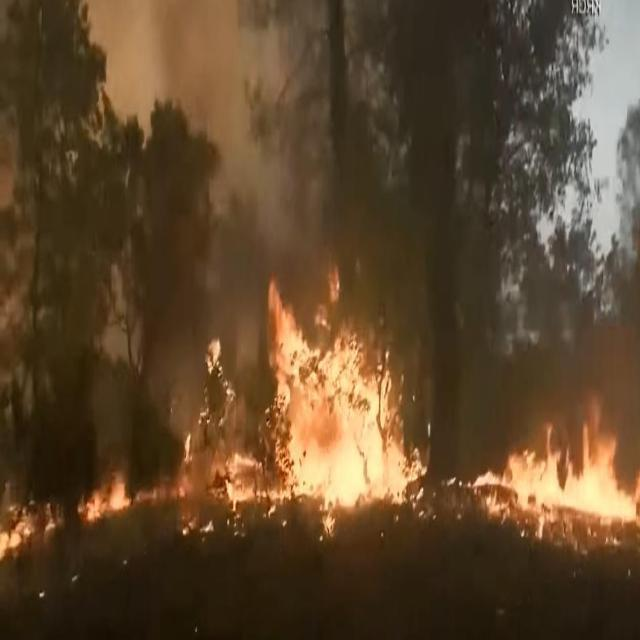Fire: (77, 259, 431, 547), (447, 397, 640, 546), (0, 501, 54, 564)
